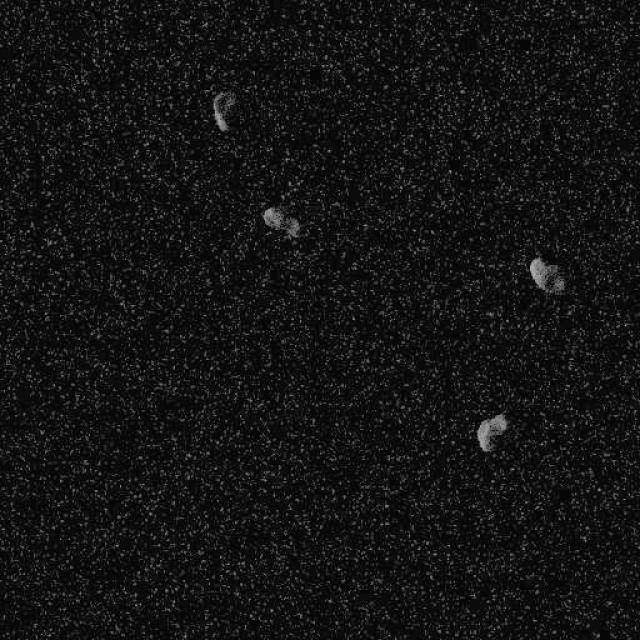D2: (528, 255, 566, 294), (261, 205, 300, 239), (212, 89, 242, 132), (475, 412, 507, 452)
